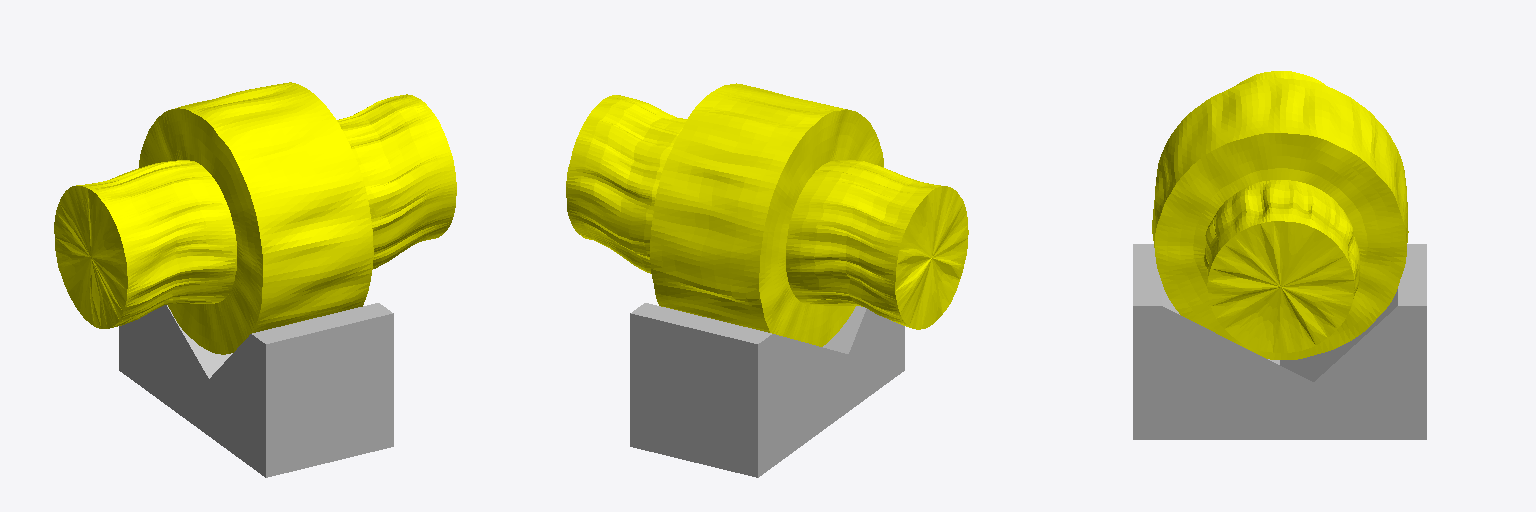
Rendered from coaxialite.obj.
3 renders of one model, left to right at view 1: azimuth 30°, elevation 25°; view 2: azimuth 150°, elevation 25°; view 3: azimuth 270°, elevation 25°, orthographic.
Parts seen in each view (by area): view 1: Cylinder.001, Cube; view 2: Cylinder.001, Cube; view 3: Cylinder.001, Cube.
Boxes of the visible parts, x1=… form: Cylinder.001: x1=54, y1=82, x2=456, y2=354; Cube: x1=119, y1=303, x2=393, y2=477; Cylinder.001: x1=566, y1=83, x2=968, y2=346; Cube: x1=630, y1=303, x2=904, y2=477; Cylinder.001: x1=1152, y1=71, x2=1408, y2=359; Cube: x1=1133, y1=244, x2=1426, y2=439.
Size of the model in its own units: 5.22 by 4.57 by 4.